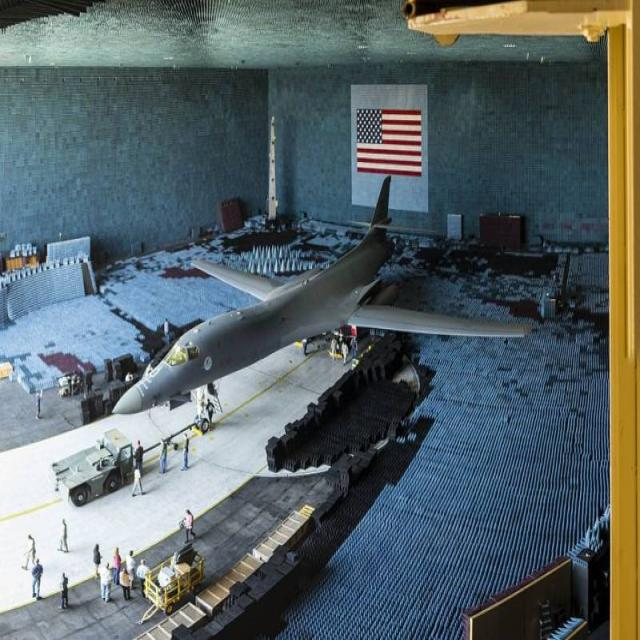MIL_Plane: (111, 173, 531, 433)
